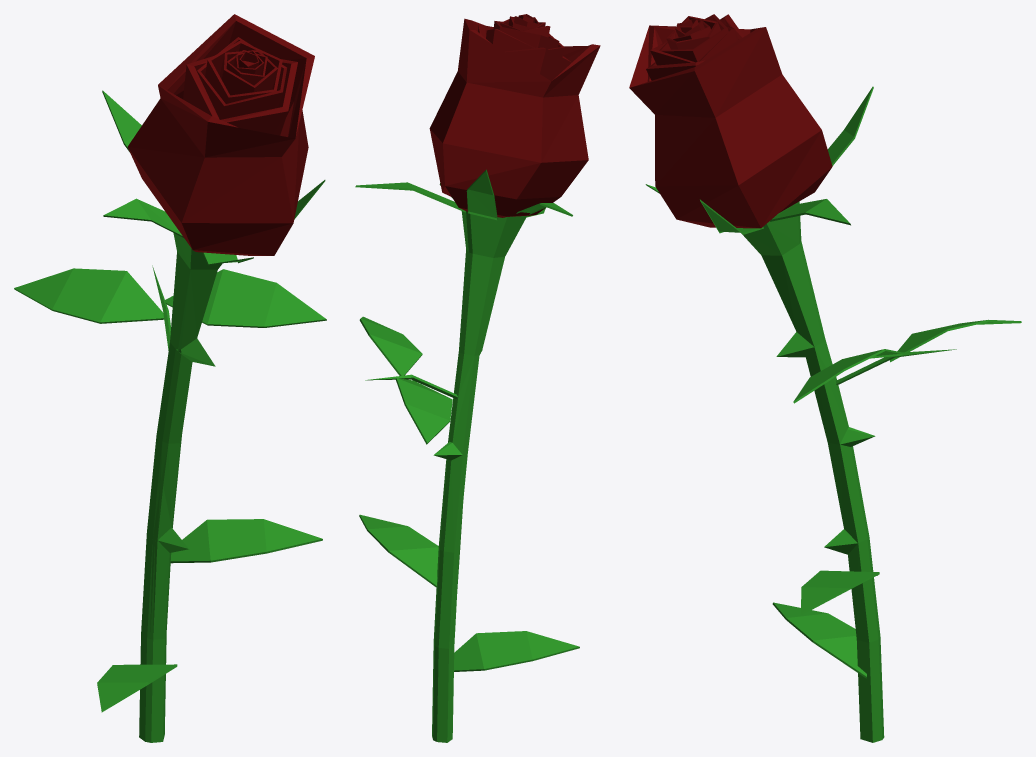
Rendered from rose.fbx.
3 views of the same model, side by side, from view 1: azimuth 30°, elevation 25°; view 2: azimuth 150°, elevation 25°; view 3: azimuth 270°, elevation 25° (orthographic). The views are drawn at different scales.
Visible parts, largest first — view 1: Cylinder002; view 2: Cylinder002; view 3: Cylinder002.
Part boxes in pixels (<box>): Cylinder002: <box>14,14,326,742</box>; Cylinder002: <box>355,14,600,742</box>; Cylinder002: <box>629,14,1021,742</box>.
Bounding box in the file's own units: 79.1 × 243 × 120.
